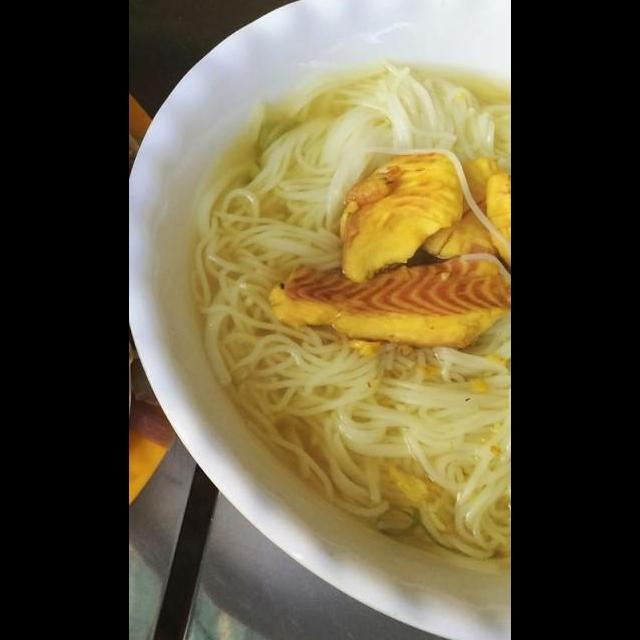bun: (210, 344, 510, 562), (166, 76, 381, 260), (327, 44, 511, 158)
bun ca: (170, 3, 511, 640)
ca: (253, 252, 511, 368), (332, 148, 479, 290)
